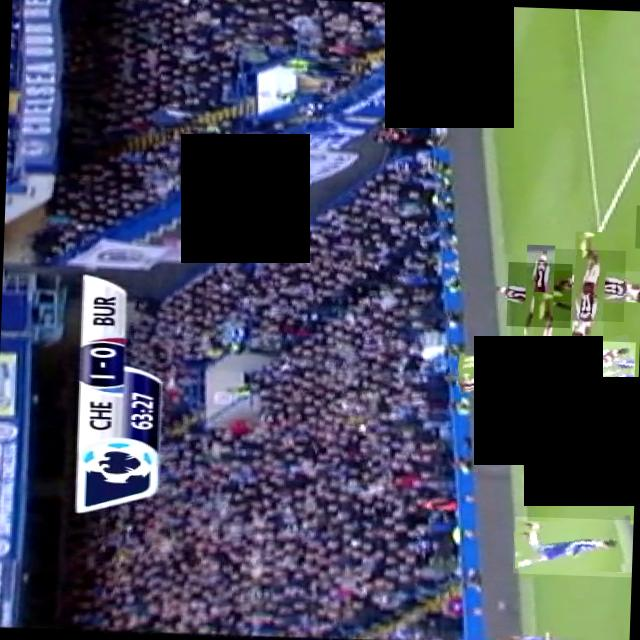soccer-player: (512, 516, 634, 577), (508, 338, 634, 393), (552, 248, 624, 322), (455, 350, 563, 394), (505, 261, 571, 327), (634, 205, 640, 248)
